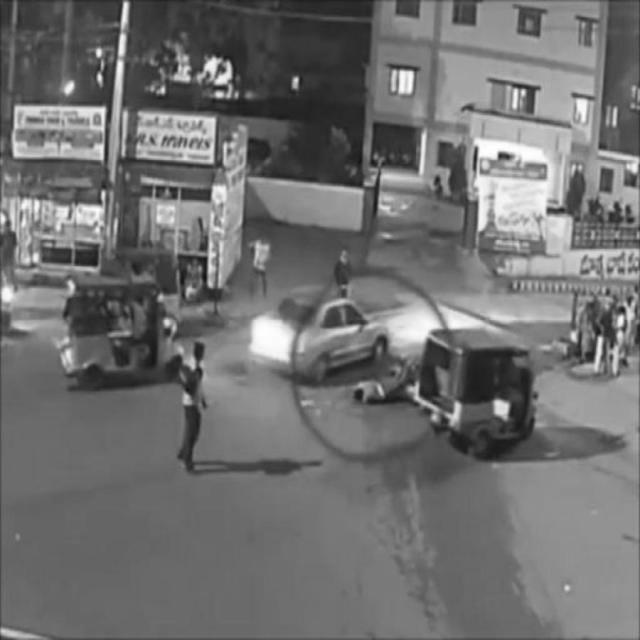person: (178, 343, 206, 475), (251, 237, 269, 303), (336, 250, 352, 301)
vehicle: (422, 323, 540, 451), (60, 267, 184, 387), (249, 298, 391, 378)
